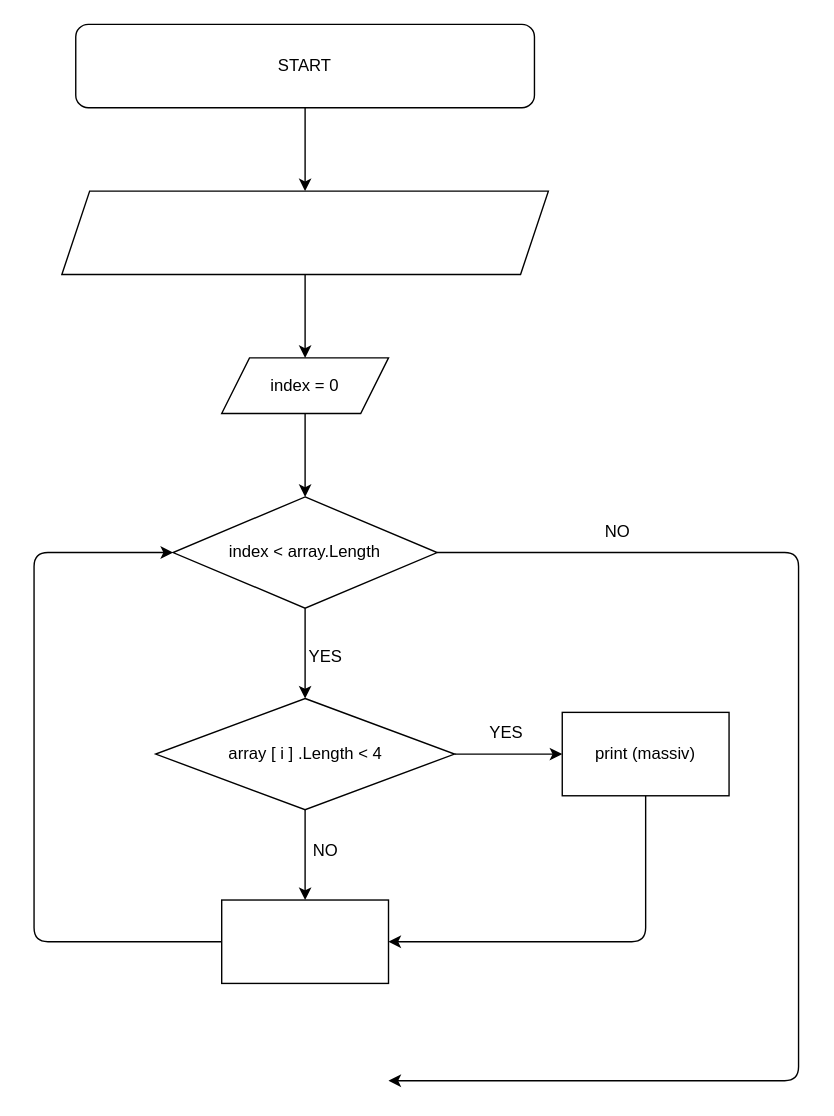
This 834x1116 diagram has some shape labels left out. Here are the shapes that lost their labels. From the top down, the box of each, then its label:
(60, 190, 548, 275): string[] array = {"654", "hello", "*&K^$#", "@", "7", "dex"}
(220, 899, 389, 983): index = index + 1
